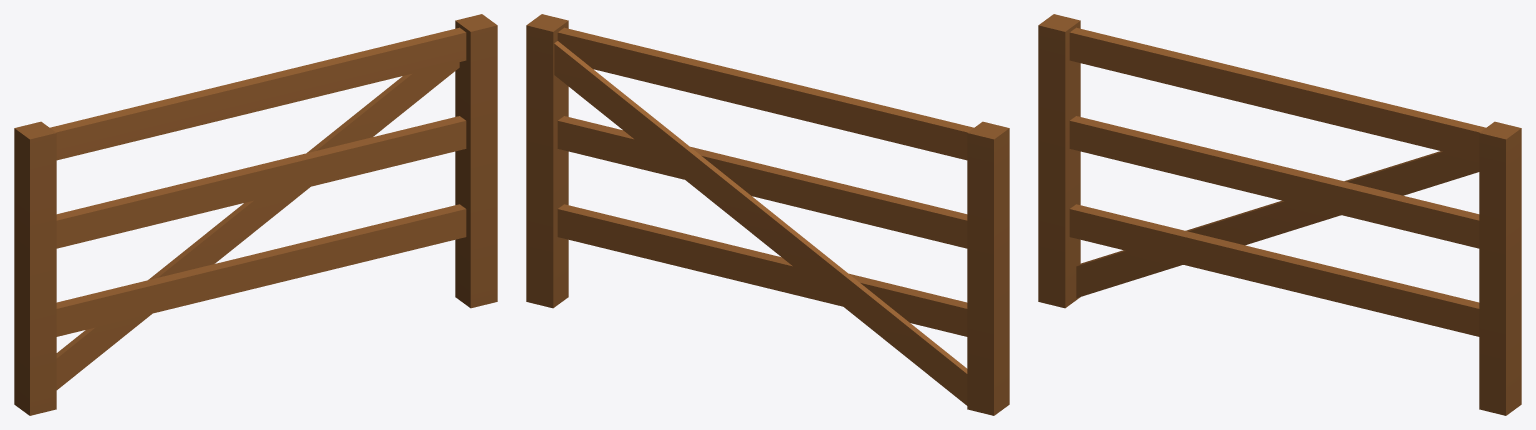
The model's file is Bld_02_Fence_Wood_Gate_Single_Long_01.obj.
3 renders of one model, left to right at view 1: azimuth 30°, elevation 25°; view 2: azimuth 150°, elevation 25°; view 3: azimuth 330°, elevation 25°, orthographic.
Visible parts, largest first — view 1: Bld_02_Fence_Wood_Gate_Single_Long_01; view 2: Bld_02_Fence_Wood_Gate_Single_Long_01; view 3: Bld_02_Fence_Wood_Gate_Single_Long_01.
Boxes of the visible parts, box(x1,y1,x2,y2) form: Bld_02_Fence_Wood_Gate_Single_Long_01: box(14, 14, 497, 415); Bld_02_Fence_Wood_Gate_Single_Long_01: box(526, 14, 1009, 415); Bld_02_Fence_Wood_Gate_Single_Long_01: box(1038, 14, 1521, 415).
Size of the model in its own units: 2.44 by 1.38 by 0.1404.
1 material, 1 textured.
